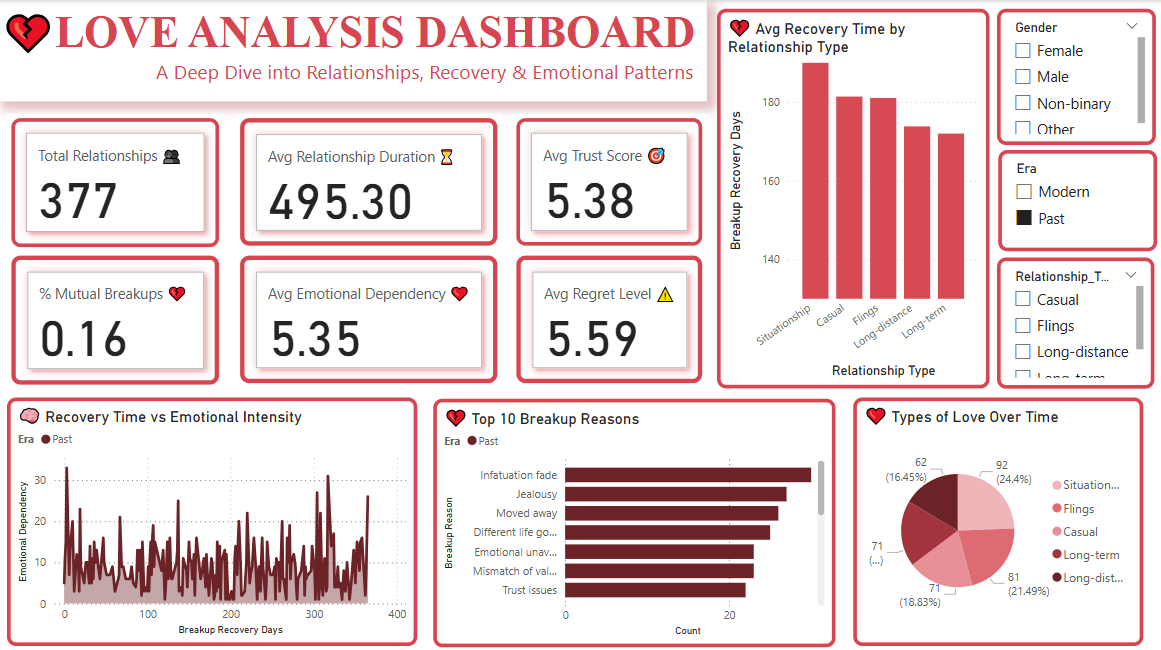

The dashboard page shown, as its layout file describes it:
{"tool":"powerbi","page":{"name":"Page 1","canvas":[1280,720],"ordinal":0},"visuals":[{"type":"textbox","box":[0,0,779.4,111.1],"z":0},{"type":"cardVisual","fields":{"Data":["Avg(Love_Analysis_Large_Dataset.Trust_Score)"]},"box":[565.4,124.9,214.1,150.9],"z":1000},{"type":"cardVisual","fields":{"Data":["CountNonNull(Love_Analysis_Large_Dataset.Person_ID)"]},"box":[11.4,124.3,238.6,151.4],"z":2000},{"type":"cardVisual","fields":{"Data":["Avg(Love_Analysis_Large_Dataset.Emotional_Dependency_Score)"]},"box":[262.1,275.8,292.3,150.9],"z":3000},{"type":"cardVisual","fields":{"Data":["Avg(Love_Analysis_Large_Dataset.Relationship_Duration_Days)"]},"box":[262.1,124.9,292.3,150.9],"z":4000},{"type":"cardVisual","fields":{"Data":["Avg(Love_Analysis_Large_Dataset.Regret_Level)"]},"box":[565.4,275.8,214.1,150.9],"z":5000},{"type":"cardVisual","fields":{"Data":["Sum(Love_Analysis_Large_Dataset.Percentage_Mutual_Breakups)"]},"box":[11.4,275.7,238.6,151.4],"z":6000},{"type":"pieChart","title":"❤️ Types of Love Over Time","fields":{"Category":["Love_Analysis_Large_Dataset.Relationship_Type"],"Y":["CountNonNull(Love_Analysis_Large_Dataset.Relationship_Type)"]},"box":[940,436.4,318.4,273.1],"z":7000},{"type":"lineChart","title":"🧠 Recovery Time vs Emotional Intensity","fields":{"Category":["Love_Analysis_Large_Dataset.Breakup_Recovery_Days"],"Y":["Sum(Love_Analysis_Large_Dataset.Emotional_Dependency_Score)"],"Series":["Love_Analysis_Large_Dataset.Era"]},"box":[11,436.4,450.1,273.1],"z":8000},{"type":"clusteredBarChart","title":"💔 Top 10 Breakup Reasons","fields":{"Category":["Love_Analysis_Large_Dataset.Breakup_Reason"],"Y":["CountNonNull(Love_Analysis_Large_Dataset.Breakup_Reason)"],"Series":["Love_Analysis_Large_Dataset.Era"]},"box":[478.9,437.7,441.9,273.1],"z":9000},{"type":"slicer","fields":{"Values":["Love_Analysis_Large_Dataset.Era"]},"box":[1099.1,164.7,174.3,111.1],"z":10000},{"type":"slicer","fields":{"Values":["Love_Analysis_Large_Dataset.Gender"]},"box":[1097.8,9.6,174.3,149.6],"z":11000},{"type":"columnChart","title":"💔 Avg Recovery Time by Relationship Type","fields":{"Category":["Love_Analysis_Large_Dataset.Relationship_Type"],"Y":["Avg(Love_Analysis_Large_Dataset.Breakup_Recovery_Days)"]},"box":[790.4,9.6,299.1,417.2],"z":13000},{"type":"slicer","fields":{"Values":["Love_Analysis_Large_Dataset.Relationship_Type"]},"box":[1097.8,282.7,172.9,144.1],"z":13001}]}

Visuals, with their boxes in screenshot pixels (x1, y1, x2, y2), scaled from the page's 1280x720 canvas onto the 1161x650 screenshot:
textbox: box=[0, 0, 707, 100]
cardVisual - Avg(Love_Analysis_Large_Dataset.Trust_Score): box=[513, 113, 707, 249]
cardVisual - CountNonNull(Love_Analysis_Large_Dataset.Person_ID): box=[10, 112, 227, 249]
cardVisual - Avg(Love_Analysis_Large_Dataset.Emotional_Dependency_Score): box=[238, 249, 503, 385]
cardVisual - Avg(Love_Analysis_Large_Dataset.Relationship_Duration_Days): box=[238, 113, 503, 249]
cardVisual - Avg(Love_Analysis_Large_Dataset.Regret_Level): box=[513, 249, 707, 385]
cardVisual - Sum(Love_Analysis_Large_Dataset.Percentage_Mutual_Breakups): box=[10, 249, 227, 386]
"❤️ Types of Love Over Time" pieChart: box=[853, 394, 1141, 641]
"🧠 Recovery Time vs Emotional Intensity" lineChart: box=[10, 394, 418, 641]
"💔 Top 10 Breakup Reasons" clusteredBarChart: box=[434, 395, 835, 642]
slicer - Love_Analysis_Large_Dataset.Era: box=[997, 149, 1155, 249]
slicer - Love_Analysis_Large_Dataset.Gender: box=[996, 9, 1154, 144]
"💔 Avg Recovery Time by Relationship Type" columnChart: box=[717, 9, 988, 385]
slicer - Love_Analysis_Large_Dataset.Relationship_Type: box=[996, 255, 1153, 385]
